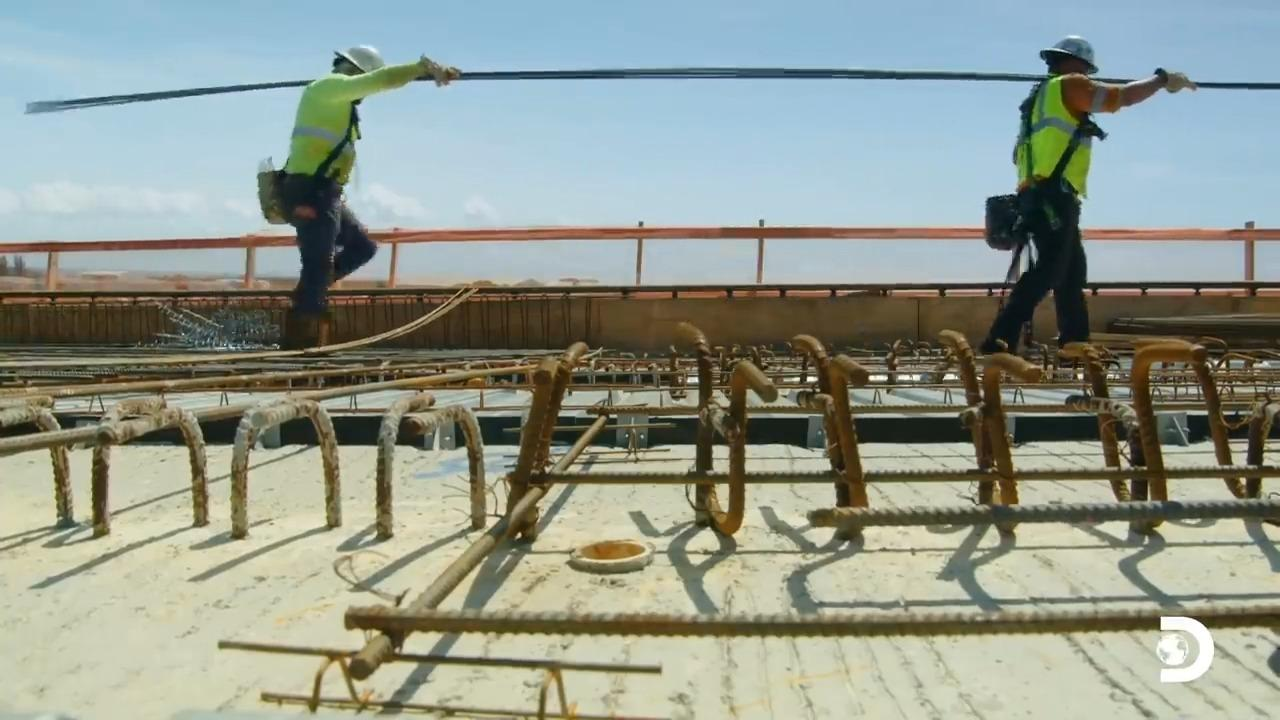Gloves: (1147, 69, 1196, 100)
Helmet: (1039, 34, 1098, 74), (332, 44, 385, 74)
Person: (979, 34, 1197, 357), (276, 44, 461, 315)
Safety Vest: (1028, 88, 1090, 183), (285, 99, 347, 177)
